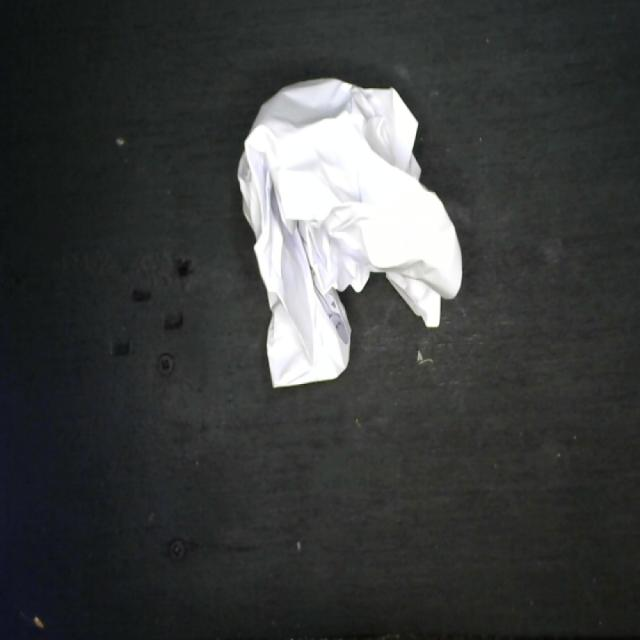biodegradable: (234, 73, 465, 394)
